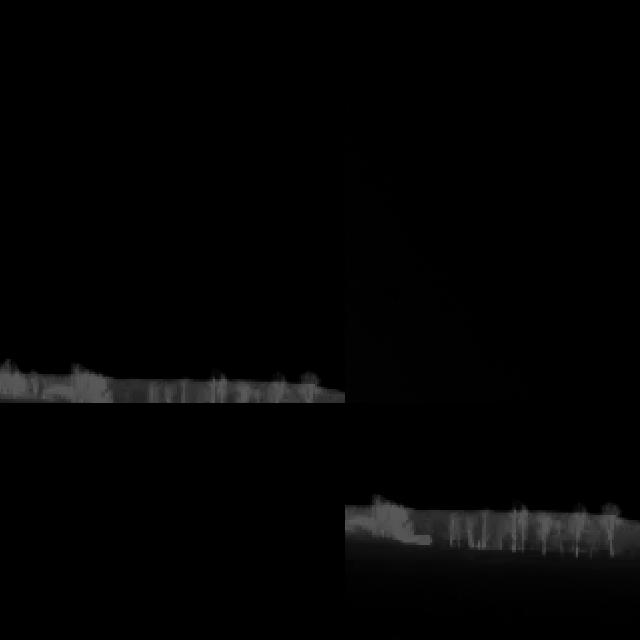drone: (379, 274, 405, 314)
